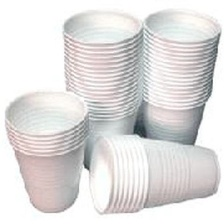glass: (55, 5, 144, 175), (81, 131, 223, 222), (138, 6, 223, 158), (1, 85, 91, 222)
